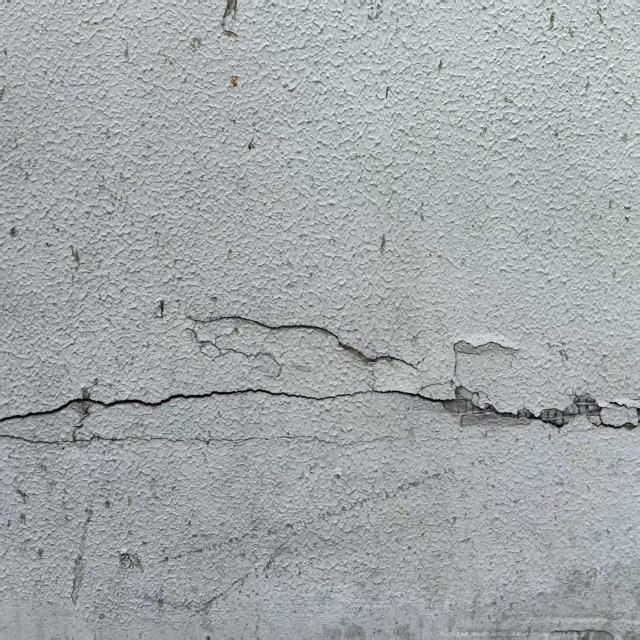crack: (5, 373, 440, 426), (172, 301, 428, 378), (1, 428, 425, 451), (200, 521, 300, 611)
hollowing: (453, 333, 522, 359)
spalling: (442, 382, 640, 434)
